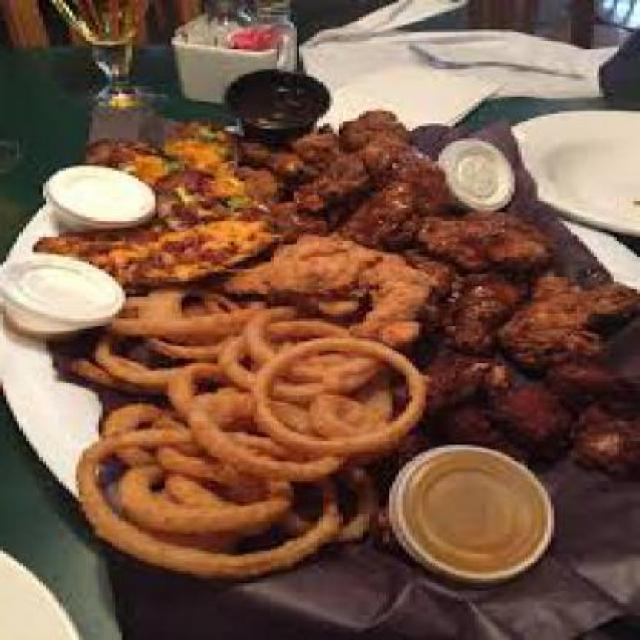onion rings: (36, 227, 436, 573)
